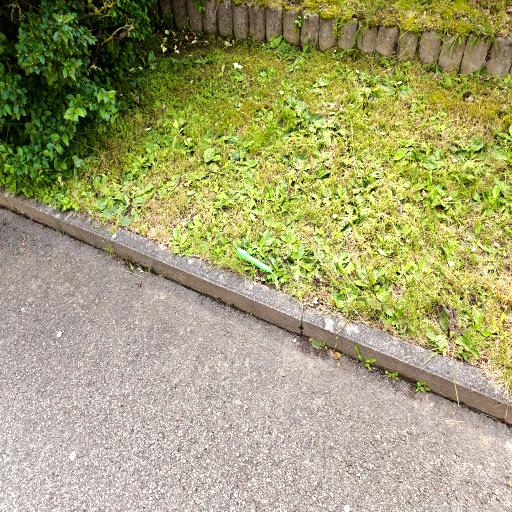Probe-Detection: (236, 247, 273, 273)
